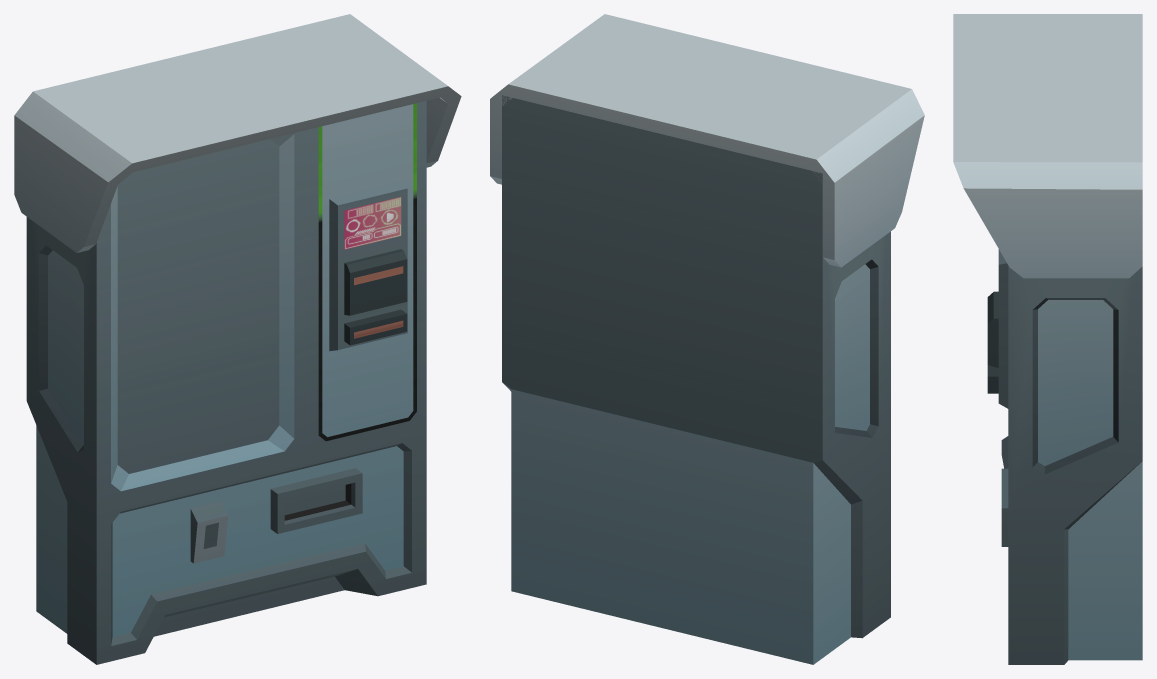
Rendered from Vending_Machine_005.fbx.
The picture shows the model from 3 angles, left to right: view 1: azimuth 30°, elevation 25°; view 2: azimuth 150°, elevation 25°; view 3: azimuth 270°, elevation 25°; orthographic projection. The views are drawn at different scales.
Parts seen in each view (by area): view 1: Vending_Machine_005; view 2: Vending_Machine_005; view 3: Vending_Machine_005.
Part boxes in pixels (x1=…): Vending_Machine_005: x1=14, y1=14, x2=461, y2=664; Vending_Machine_005: x1=490, y1=14, x2=924, y2=664; Vending_Machine_005: x1=953, y1=14, x2=1142, y2=664.
Bounding box in the file's own units: 146 × 70.51 × 205.
